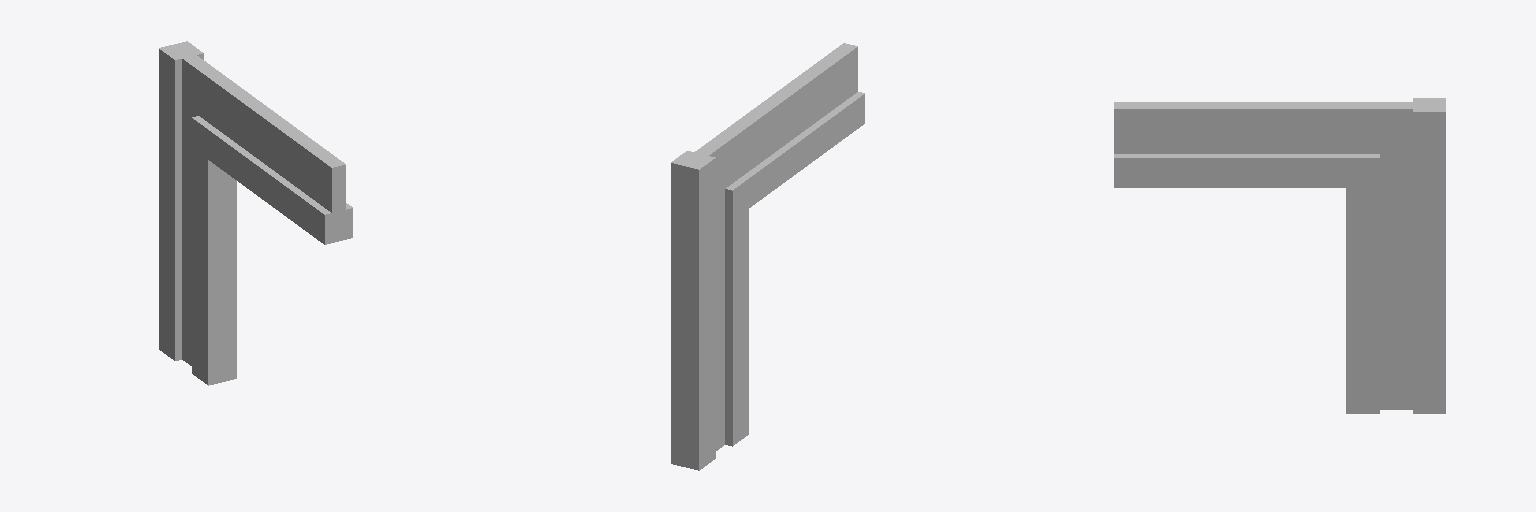
File: wall-doorway-square-wide.obj
3 renders of one model, left to right at view 1: azimuth 30°, elevation 25°; view 2: azimuth 150°, elevation 25°; view 3: azimuth 270°, elevation 25°, orthographic.
Visible parts, largest first — view 1: wall-doorway-square-wide; view 2: wall-doorway-square-wide; view 3: wall-doorway-square-wide.
Part boxes in pixels (left/top/right/bottom): wall-doorway-square-wide: left=159, top=41, right=352, bottom=385; wall-doorway-square-wide: left=671, top=43, right=864, bottom=470; wall-doorway-square-wide: left=1114, top=98, right=1445, bottom=413.
Bounding box in the file's own units: 0.1 × 1 × 1.